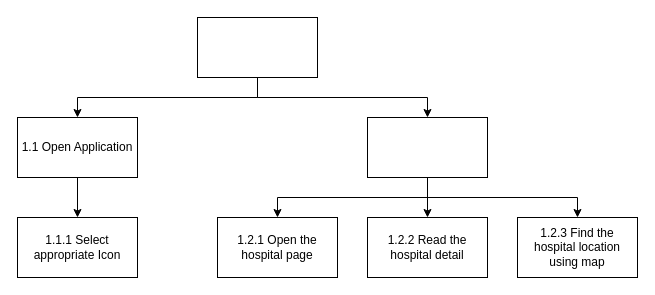
This 655x295 diagram has some shape labels left out. Here are the shapes that lost their labels. From the top down, the centre of each, then its label:
(x=257, y=47): 1. Find Hospital
(x=427, y=147): 1.2 Access Hospital list page
